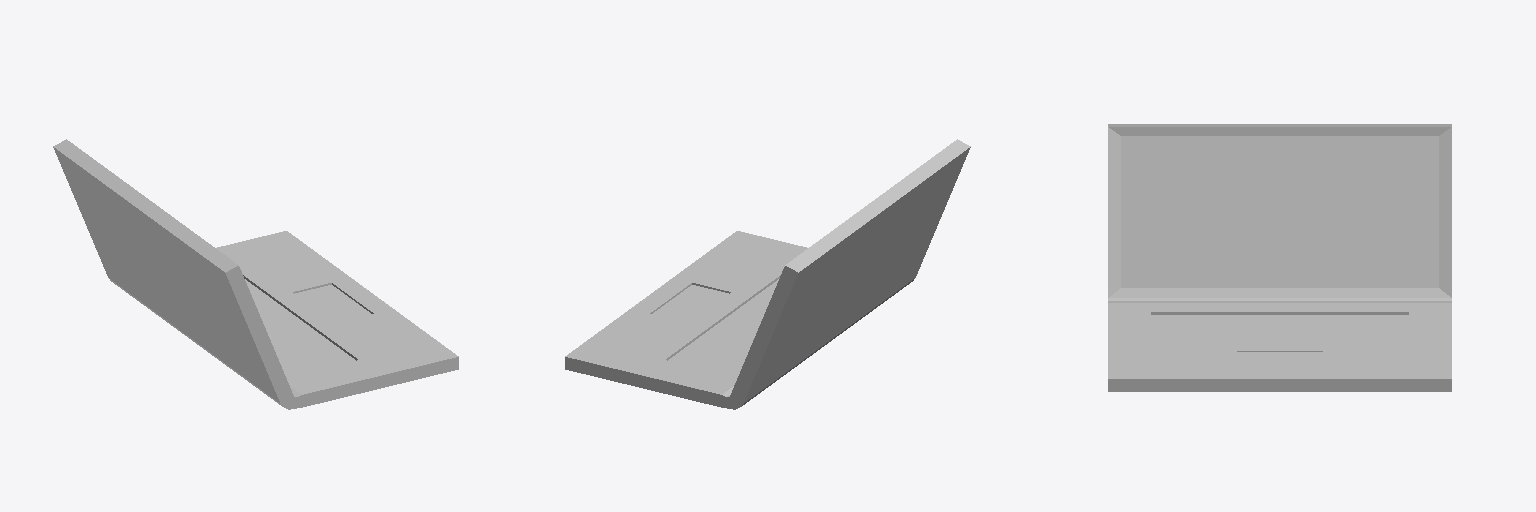
The model's file is laptop.obj.
The picture shows the model from 3 angles: view 1: azimuth 30°, elevation 25°; view 2: azimuth 150°, elevation 25°; view 3: azimuth 270°, elevation 25°; orthographic projection.
Parts seen in each view (by area): view 1: console_console_auv; view 2: console_console_auv; view 3: console_console_auv.
Part boxes in pixels (x1,y1,x2,y2): console_console_auv: (53, 139, 458, 409); console_console_auv: (565, 139, 970, 409); console_console_auv: (1108, 124, 1451, 391).
Bounding box in the file's own units: 2.6 × 1.68 × 3.31.